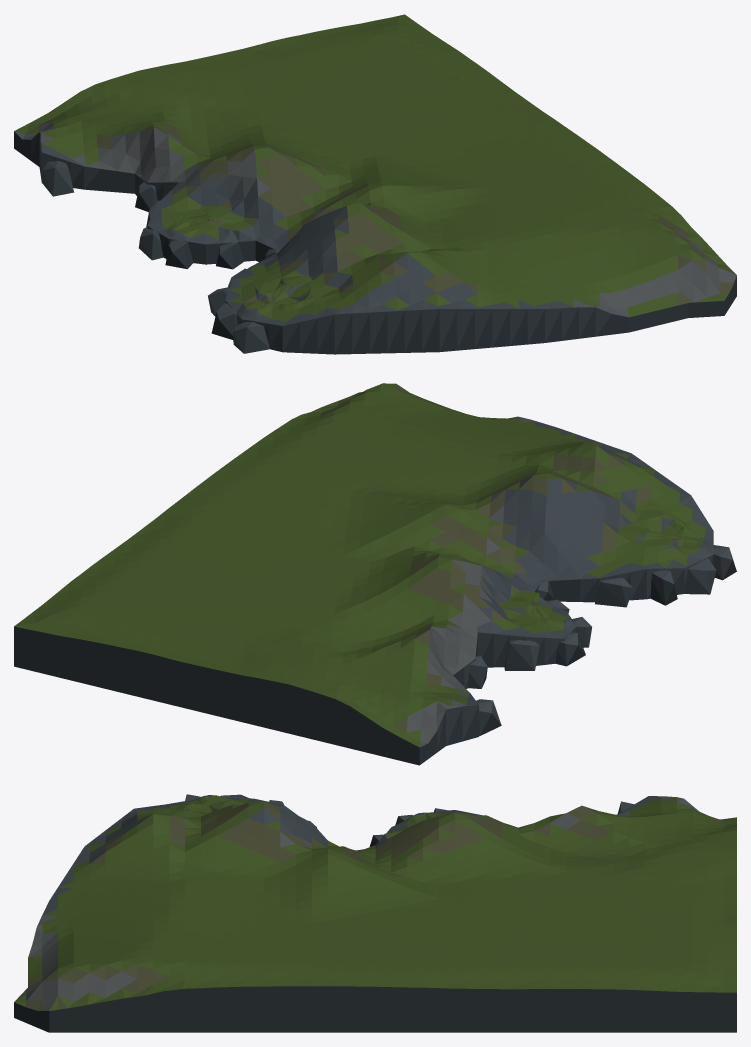
The model's file is mainland_headland.glb.
3 views of the same model, one above another, from view 1: azimuth 30°, elevation 25°; view 2: azimuth 150°, elevation 25°; view 3: azimuth 270°, elevation 25° (orthographic). The views are drawn at different scales.
Parts seen in each view (by area): view 1: Mainland headland continuous bedrock and grass terraces; view 2: Mainland headland continuous bedrock and grass terraces; view 3: Mainland headland continuous bedrock and grass terraces.
Part boxes in pixels (left/top/right/bottom): Mainland headland continuous bedrock and grass terraces: left=14, top=14, right=736, bottom=354; Mainland headland continuous bedrock and grass terraces: left=14, top=383, right=736, bottom=765; Mainland headland continuous bedrock and grass terraces: left=14, top=794, right=736, bottom=1032.
Bounding box in the file's own units: 293 × 54.48 × 410.
